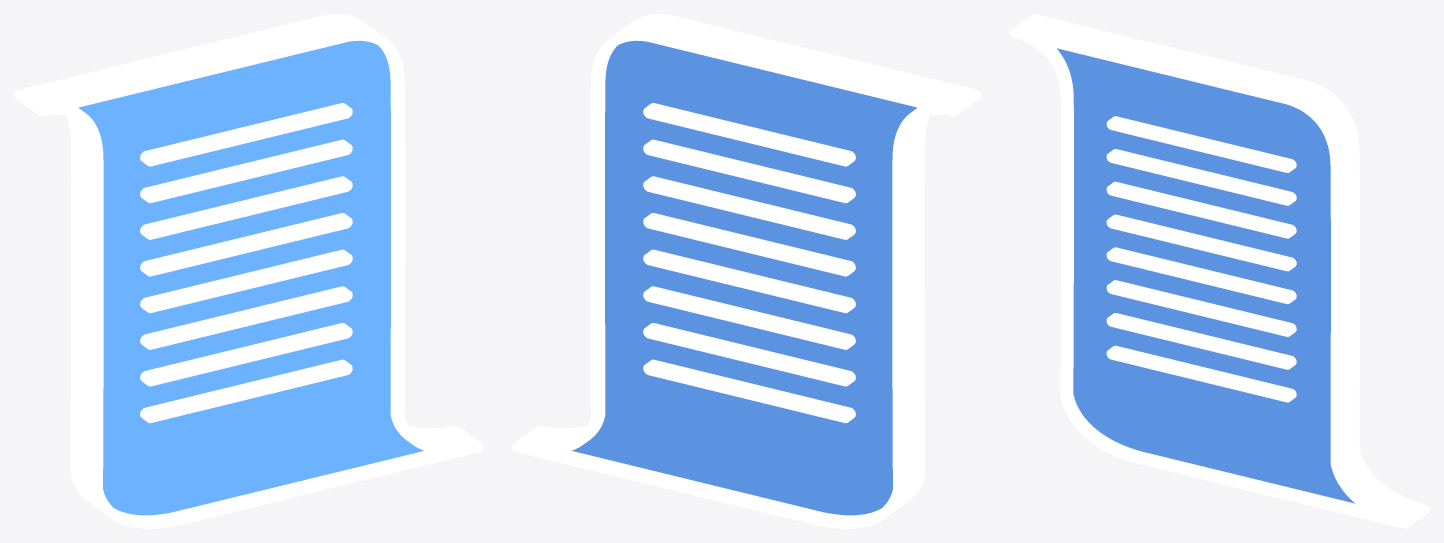
File: l-icons-text-1.glb
3 renders of one model, left to right at view 1: azimuth 30°, elevation 25°; view 2: azimuth 150°, elevation 25°; view 3: azimuth 330°, elevation 25°, orthographic. The views are drawn at different scales.
Visible parts, largest first — view 1: Icon_Text; view 2: Icon_Text; view 3: Icon_Text.
Boxes of the visible parts, x1,y1,x2,y2 form: Icon_Text: [14, 14, 483, 528]; Icon_Text: [512, 14, 981, 528]; Icon_Text: [1010, 14, 1429, 528].
Size of the model in its own units: 0.5356 by 0.5186 by 0.05.
